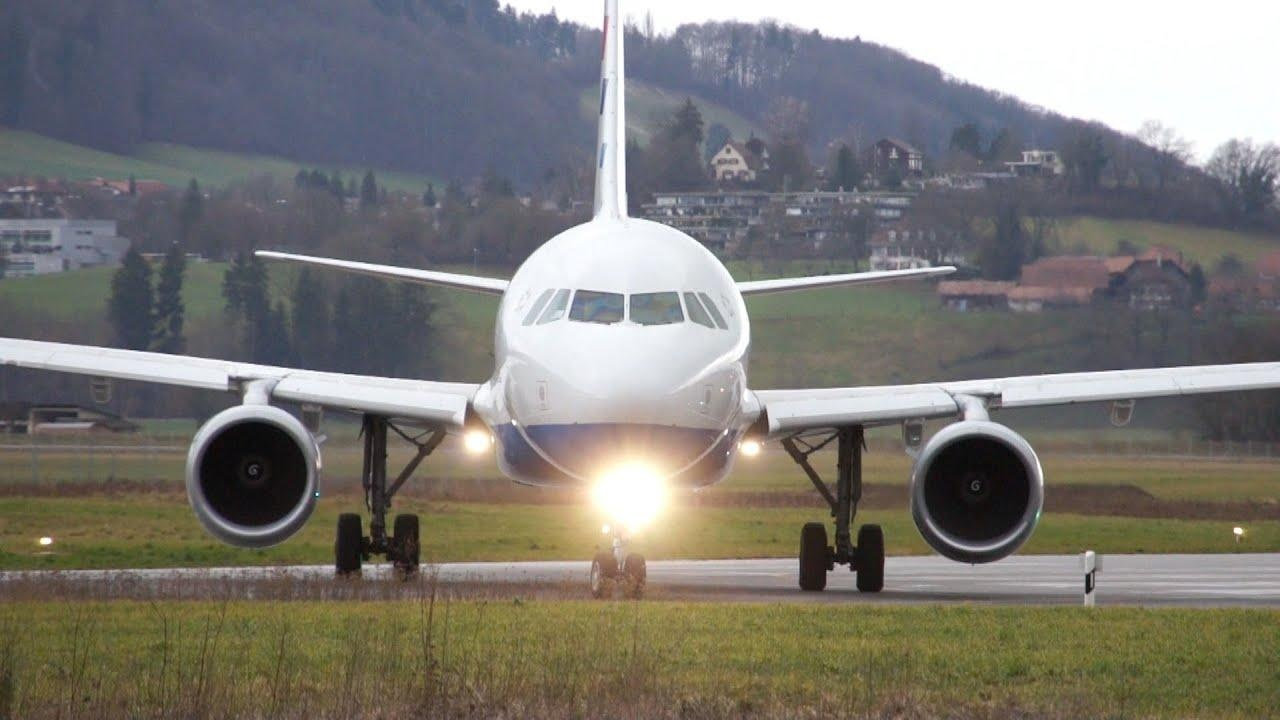aircraft: (6, 2, 1278, 598)
